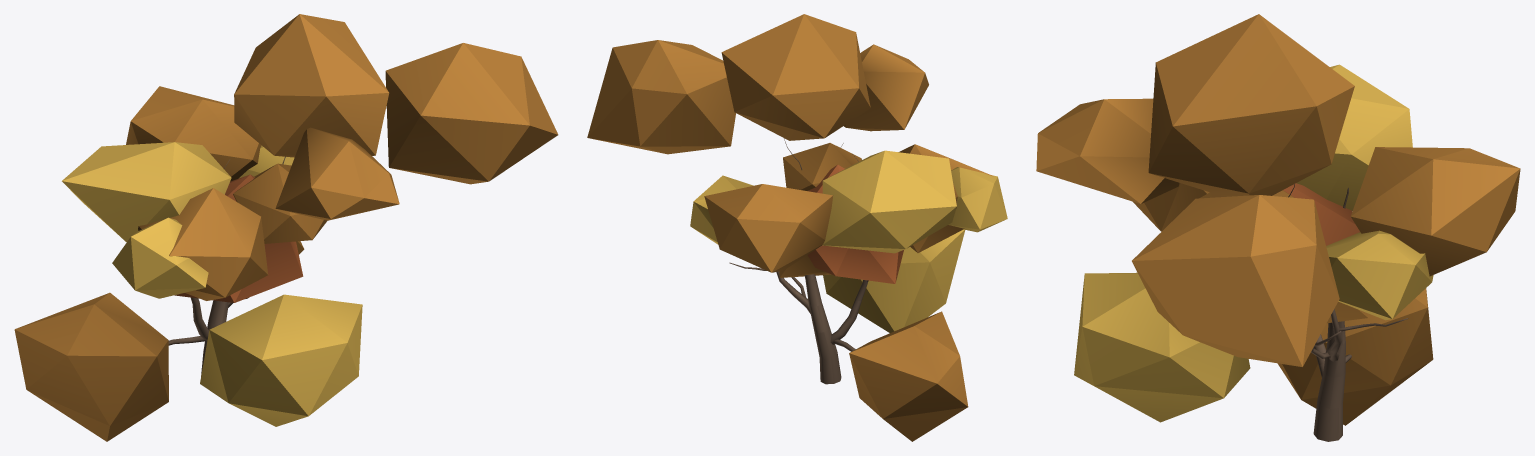
Rendered from obj_deco_matorral_2.glb.
The picture shows the model from 3 angles, left to right: view 1: azimuth 30°, elevation 25°; view 2: azimuth 150°, elevation 25°; view 3: azimuth 270°, elevation 25°; orthographic projection. The views are drawn at different scales.
Parts seen in each view (by area): view 1: propforge-libre-deco_matorral; view 2: propforge-libre-deco_matorral; view 3: propforge-libre-deco_matorral.
Boxes of the visible parts, x1,y1,x2,y2 form: propforge-libre-deco_matorral: [14, 14, 558, 441]; propforge-libre-deco_matorral: [587, 14, 1007, 441]; propforge-libre-deco_matorral: [1036, 14, 1520, 441].
Bounding box in the file's own units: 0.9752 × 0.849 × 0.7379.
